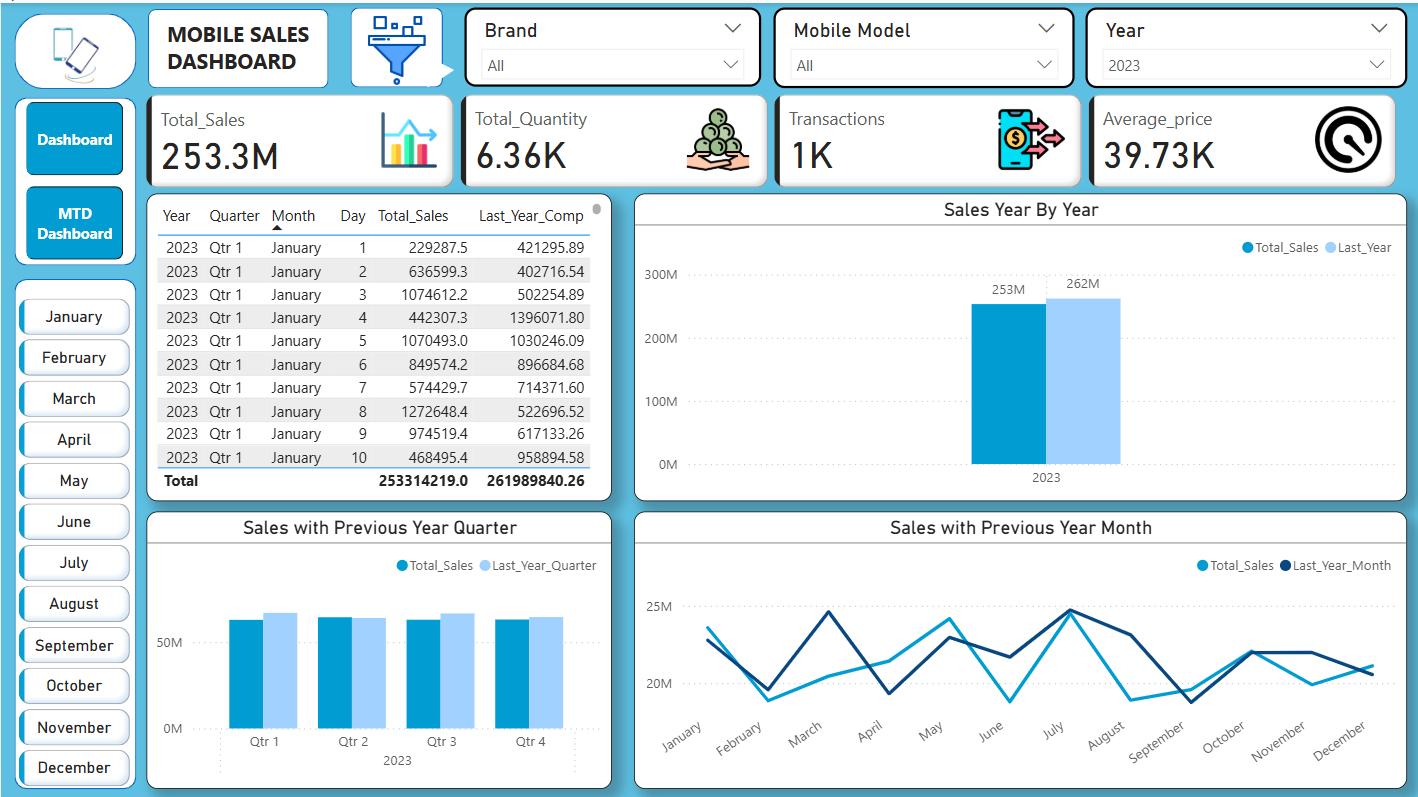

The page's visual inventory and layout, read from the dashboard file:
{"tool":"powerbi","page":{"name":"Previous Year Comprasion ","canvas":[1280,720],"ordinal":2},"visuals":[{"type":"shape","box":[12.5,9.7,109.7,68.1],"z":0},{"type":"image","box":[25,0,86.1,94.4],"z":1000},{"type":"shape","box":[12.5,84.7,109.7,151.4],"z":2000},{"type":"shape","box":[12.5,248.6,109.7,459.7],"z":3000},{"type":"advancedSlicerVisual","fields":{"Values":["Custom_Calender.Date.Variation.Date Hierarchy.Month"]},"box":[10.6,260.4,110.5,458.8],"z":4000},{"type":"cardVisual","fields":{"Data":["Mobile_Sales_Data.Total_Sales","Mobile_Sales_Data.Total_Quantity","Mobile_Sales_Data.Transactions","Mobile_Sales_Data.Average_price"]},"box":[111.4,77.1,1168.6,94.3],"z":5000},{"type":"slicer","fields":{"Values":["Mobile_Sales_Data.Mobile Model"]},"box":[695.7,4.3,271.4,72.9],"z":6000},{"type":"slicer","fields":{"Values":["Custom_Calender.Date.Variation.Date Hierarchy.Year"]},"box":[977.1,4.3,290,72.9],"z":7000},{"type":"slicer","fields":{"Values":["Mobile_Sales_Data.Brand"]},"box":[417.1,4.3,267.1,71.4],"z":8000},{"type":"group","id":"g1","title":"Group 1","box":[314.3,4.3,102.9,71.4],"z":9000},{"type":"shape","box":[314.3,4.3,83.3,72.2],"z":9000,"group":"g1"},{"type":"image","box":[295.7,5.7,121.4,74.3],"z":10000},{"type":"shape","box":[132.9,5.7,162.9,71.4],"z":11000},{"type":"shape","box":[374,47.4,43.1,29.2],"z":11000,"group":"g1"},{"type":"textbox","box":[144.3,10,151.4,74.3],"z":12000},{"type":"tableEx","fields":{"Values":["Custom_Calender.Date.Variation.Date Hierarchy.Year","Custom_Calender.Date.Variation.Date Hierarchy.Quarter","Custom_Calender.Date.Variation.Date Hierarchy.Month","Custom_Calender.Date.Variation.Date Hierarchy.Day","Mobile_Sales_Data.Total_Sales","Mobile_Sales_Data.Last_Year_Comp"]},"box":[131.7,171.1,419.4,277.1],"z":13000},{"type":"clusteredColumnChart","title":"Sales Year By Year","fields":{"Category":["Custom_Calender.Date.Variation.Date Hierarchy.Year","Custom_Calender.Date.Variation.Date Hierarchy.Quarter","Custom_Calender.Date.Variation.Date Hierarchy.Month","Custom_Calender.Date.Variation.Date Hierarchy.Day"],"Y":["Mobile_Sales_Data.Total_Sales","Mobile_Sales_Data.Last_Year_Comp"]},"box":[570.9,171.1,696.5,277.1],"z":14000},{"type":"lineChart","title":"Sales with Previous Year Month","fields":{"Category":["Custom_Calender.Date.Variation.Date Hierarchy.Month","Custom_Calender.Date.Variation.Date Hierarchy.Day"],"Y":["Mobile_Sales_Data.Total_Sales","Mobile_Sales_Data.Last_Year_Comp"]},"box":[570.9,458.8,696.5,249.8],"z":15000},{"type":"clusteredColumnChart","title":"Sales with Previous Year Quarter","fields":{"Category":["Custom_Calender.Date.Variation.Date Hierarchy.Year","Custom_Calender.Date.Variation.Date Hierarchy.Quarter","Custom_Calender.Date.Variation.Date Hierarchy.Month","Custom_Calender.Date.Variation.Date Hierarchy.Day"],"Y":["Mobile_Sales_Data.Total_Sales","Mobile_Sales_Data.Last_Year_Comp"]},"box":[131.7,458.8,419.4,249.8],"z":16000},{"type":"pageNavigator","box":[22.7,89.3,87.8,142.3],"z":16001}]}

Visuals, with their boxes in screenshot pixels (x1, y1, x2, y2), scaled from the page's 1280x720 canvas onto the 1418x797 screenshot:
shape: crop(14, 11, 135, 86)
image: crop(28, 0, 123, 104)
shape: crop(14, 94, 135, 261)
shape: crop(14, 275, 135, 784)
advancedSlicerVisual - Custom_Calender.Date.Variation.Date Hierarchy.Month: crop(12, 288, 134, 796)
cardVisual - Mobile_Sales_Data.Total_Sales x Mobile_Sales_Data.Total_Quantity: crop(123, 85, 1417, 190)
slicer - Mobile_Sales_Data.Mobile Model: crop(771, 5, 1071, 85)
slicer - Custom_Calender.Date.Variation.Date Hierarchy.Year: crop(1082, 5, 1404, 85)
slicer - Mobile_Sales_Data.Brand: crop(462, 5, 758, 84)
"Group 1" group: crop(348, 5, 462, 84)
shape: crop(348, 5, 440, 85)
image: crop(328, 6, 462, 89)
shape: crop(147, 6, 328, 85)
shape: crop(414, 52, 462, 85)
textbox: crop(160, 11, 328, 93)
tableEx - Custom_Calender.Date.Variation.Date Hierarchy.Year x Custom_Calender.Date.Variation.Date Hierarchy.Quarter: crop(146, 189, 611, 496)
"Sales Year By Year" clusteredColumnChart: crop(632, 189, 1404, 496)
"Sales with Previous Year Month" lineChart: crop(632, 508, 1404, 784)
"Sales with Previous Year Quarter" clusteredColumnChart: crop(146, 508, 611, 784)
pageNavigator: crop(25, 99, 122, 256)
